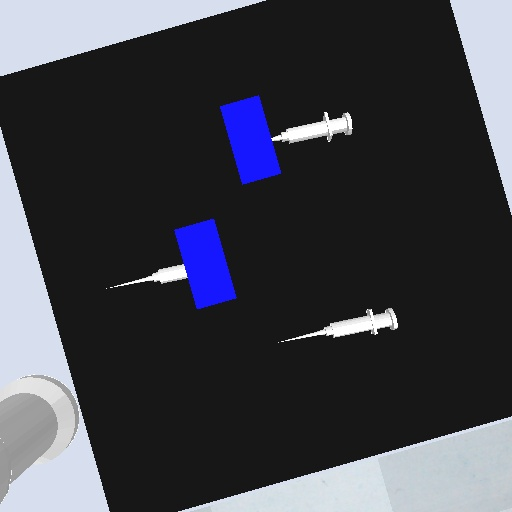jeringuilla: (275, 305, 401, 346), (270, 107, 357, 150), (103, 262, 190, 293)
